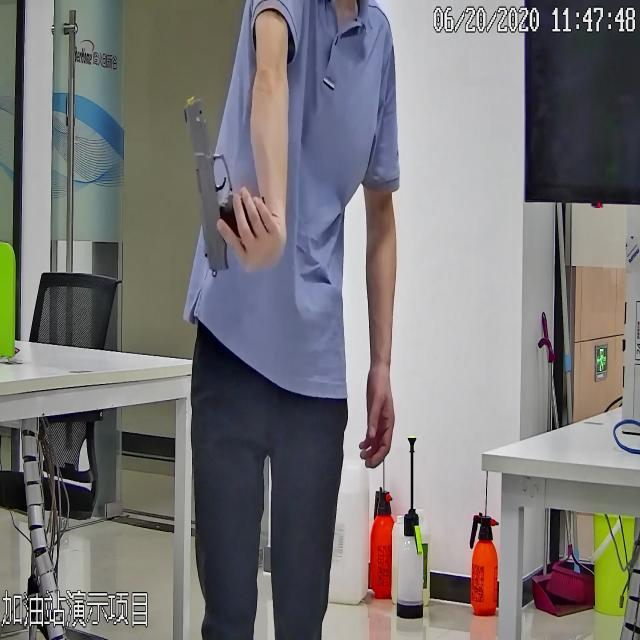gun-knife-thesis - v11 Yolov5 augmented: (181, 87, 276, 280)
